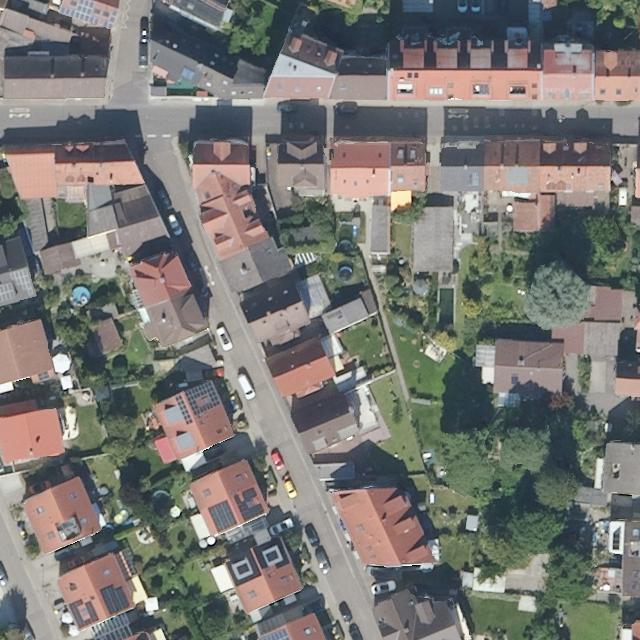PV: (57, 0, 118, 33), (183, 379, 222, 418), (203, 496, 239, 536), (231, 485, 267, 524), (97, 579, 131, 617), (67, 593, 100, 632), (9, 266, 36, 296), (173, 395, 195, 426), (0, 280, 19, 305), (257, 626, 292, 639)
